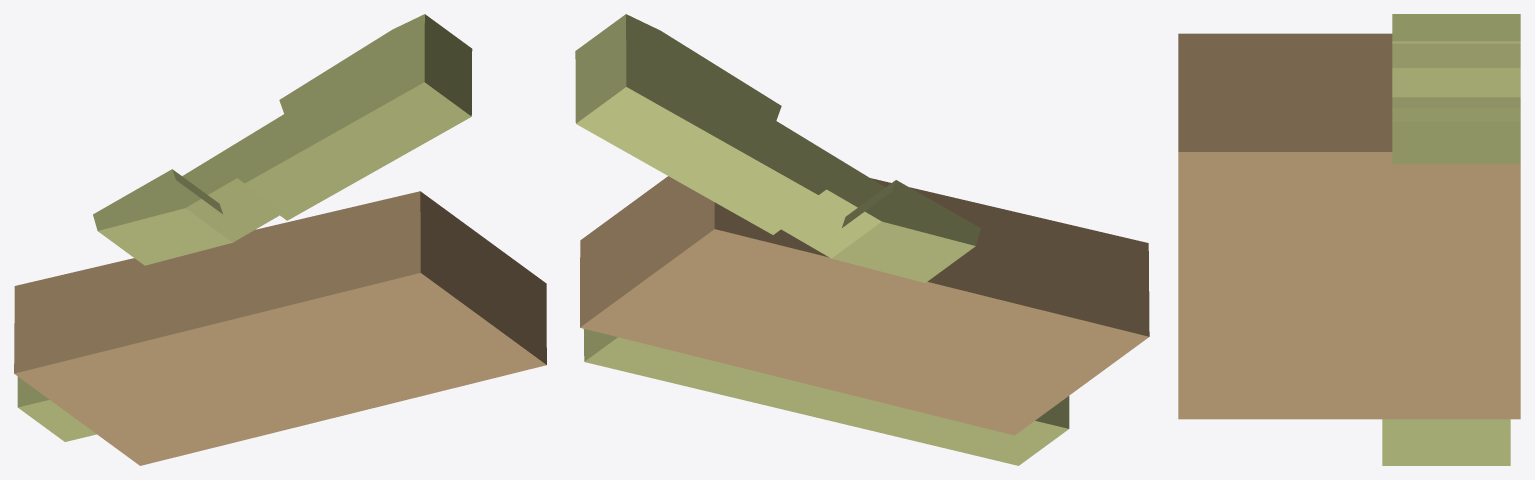
3 views of the same model, side by side, from view 1: azimuth 30°, elevation 25°; view 2: azimuth 150°, elevation 25°; view 3: azimuth 270°, elevation 25° (orthographic). The views are drawn at different scales.
Parts seen in each view (by area): view 1: 0_0_1_3_2_2_2_3_1; view 2: 0_0_1_3_2_2_2_3_1; view 3: 0_0_1_3_2_2_2_3_1.
Part boxes in pixels (left/top/right/bottom): 0_0_1_3_2_2_2_3_1: left=14, top=14, right=546, bottom=465; 0_0_1_3_2_2_2_3_1: left=575, top=14, right=1149, bottom=465; 0_0_1_3_2_2_2_3_1: left=1178, top=14, right=1520, bottom=465.
Bounding box in the file's own units: 45.14 × 30.7 × 24.
